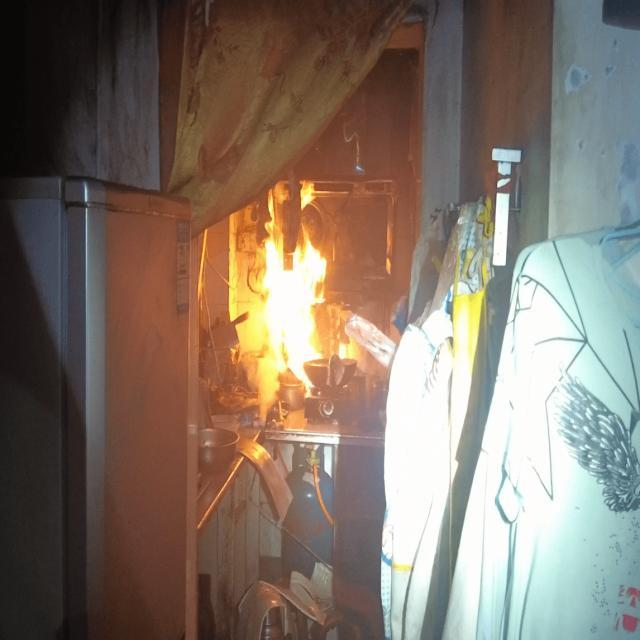Fire: (262, 179, 328, 397)
